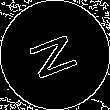N_E: (24, 27, 86, 83)
